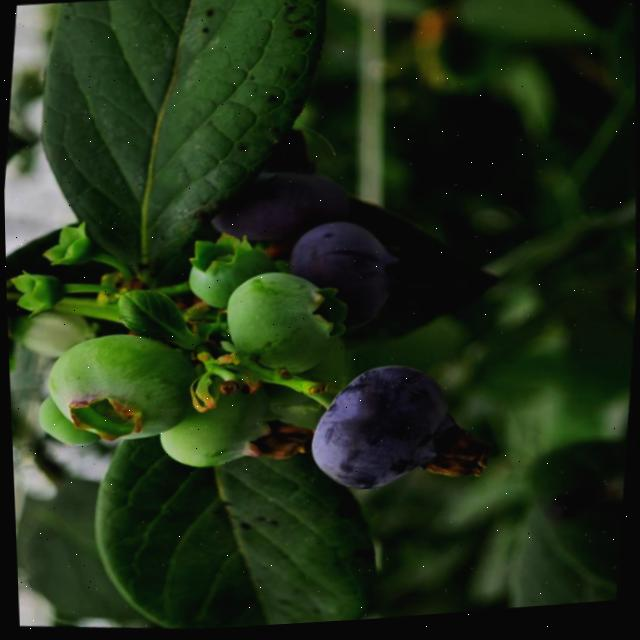RipeBlueBerry: (304, 356, 469, 502), (204, 149, 360, 251), (284, 214, 408, 334)
UnripeBlueBerry: (40, 322, 197, 452), (218, 264, 352, 382), (156, 368, 284, 477)
